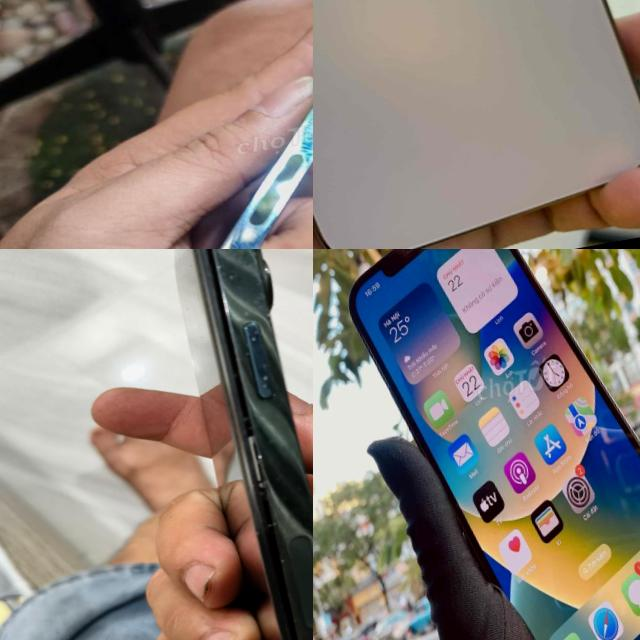gen_12_13: (332, 249, 640, 640), (313, 0, 640, 249), (140, 249, 313, 640), (68, 0, 313, 249)
